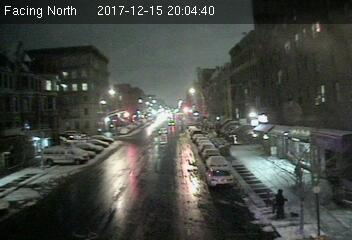car: (206, 167, 235, 186), (157, 127, 168, 135)
pedestrian: (274, 187, 291, 219)
